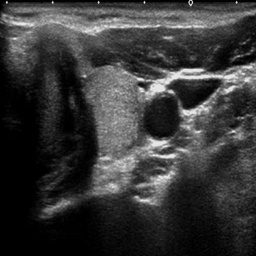mass: (85, 74, 141, 153)
